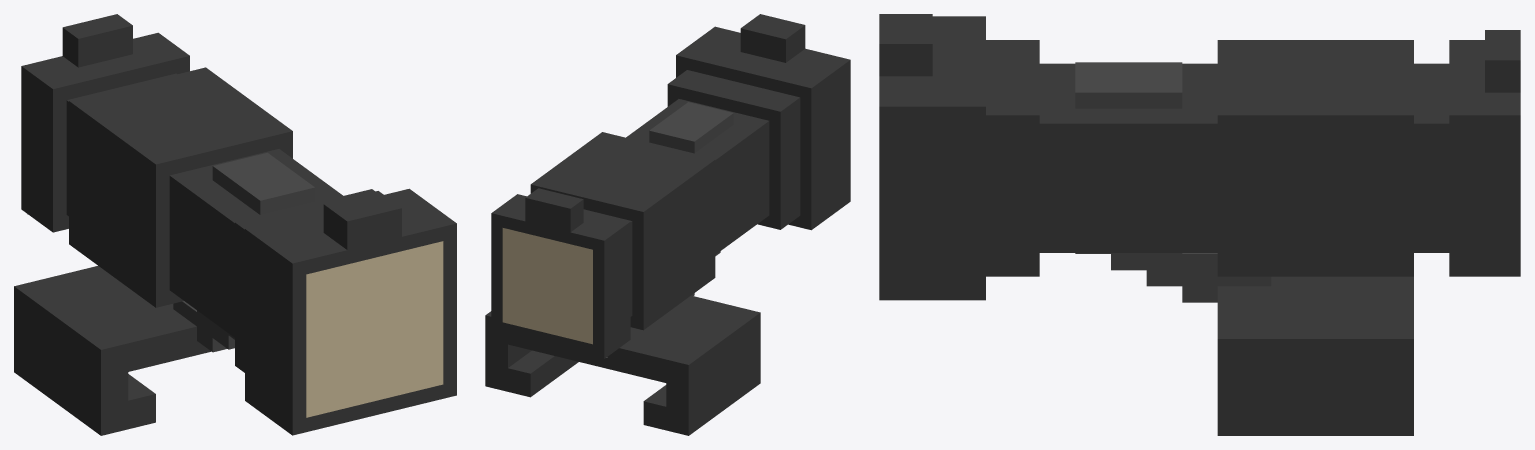
Rendered from assault_rifle_scope.fbx.
3 views of the same model, side by side, from view 1: azimuth 30°, elevation 25°; view 2: azimuth 150°, elevation 25°; view 3: azimuth 270°, elevation 25° (orthographic). The views are drawn at different scales.
Parts seen in each view (by area): view 1: assault_rifle_scope; view 2: assault_rifle_scope; view 3: assault_rifle_scope.
Part boxes in pixels (<box>): assault_rifle_scope: <box>14,14,456,435</box>; assault_rifle_scope: <box>485,14,850,435</box>; assault_rifle_scope: <box>879,14,1520,435</box>.
Size of the model in its own units: 10.8 by 12.6 by 21.6.
